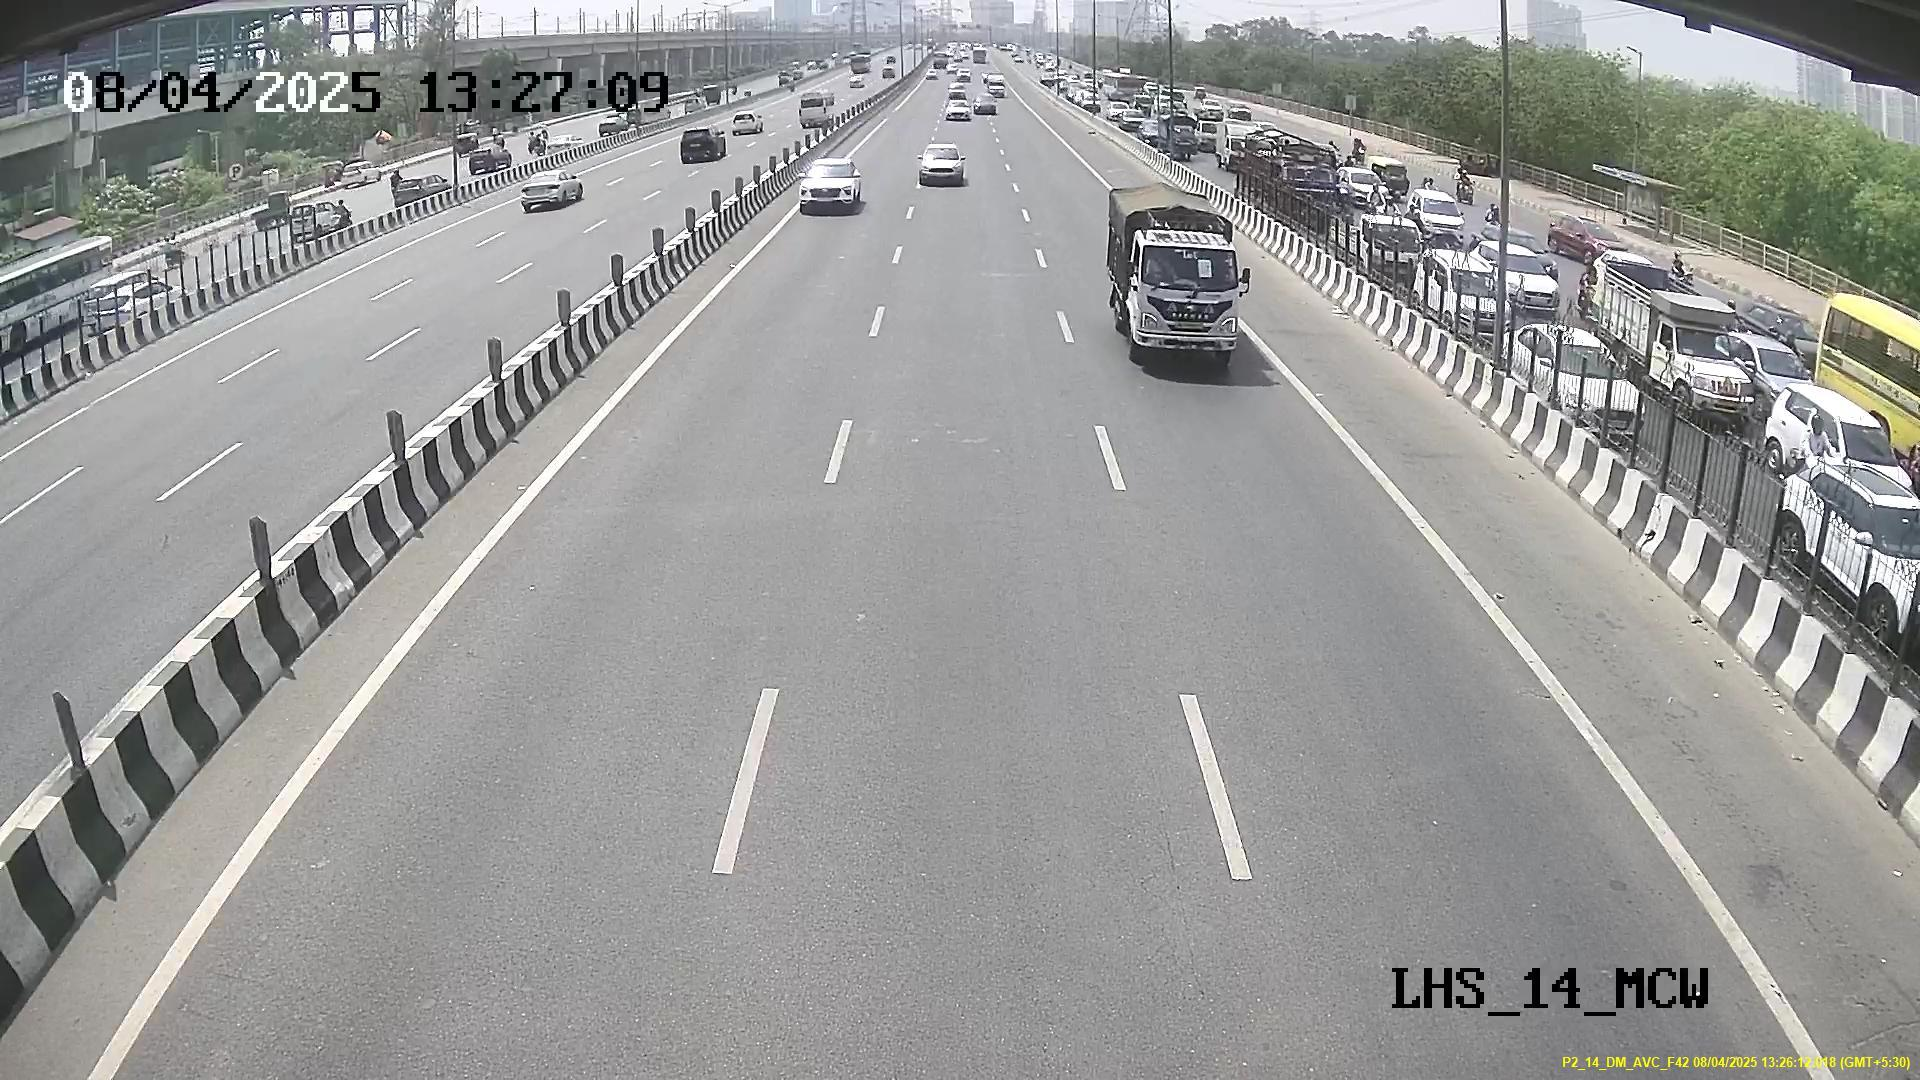car: (795, 158, 860, 210)
lcv: (1122, 220, 1247, 364)
